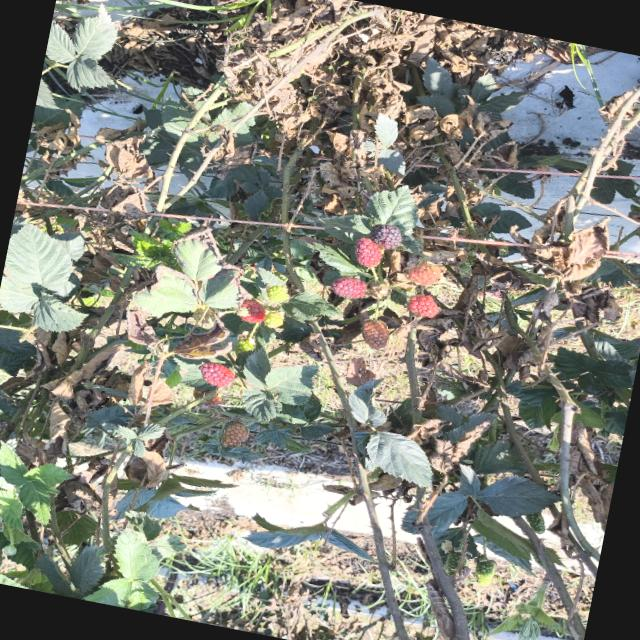maduro: (370, 224, 403, 249)
naranja: (408, 260, 442, 286), (200, 363, 236, 387), (356, 238, 383, 268), (362, 321, 389, 350), (331, 277, 367, 298), (408, 295, 440, 318), (223, 422, 250, 447), (237, 300, 266, 323)
